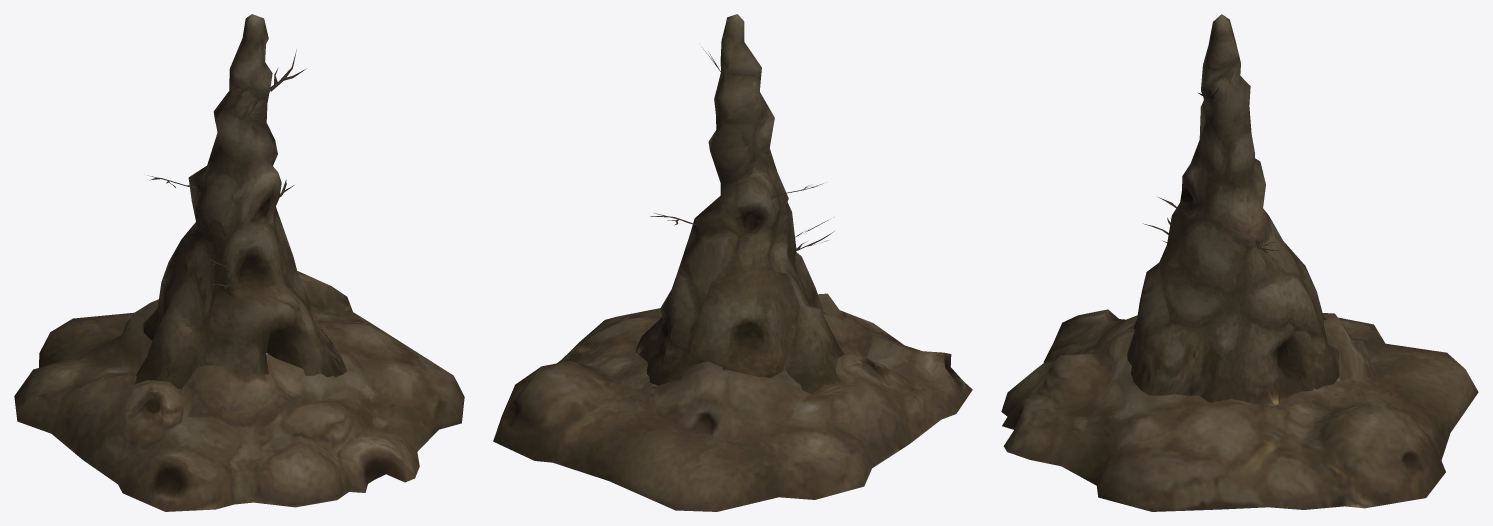
Rendered from nashgar_object_ant_tunnel_05.FBX.
3 renders of one model, left to right at view 1: azimuth 30°, elevation 25°; view 2: azimuth 150°, elevation 25°; view 3: azimuth 270°, elevation 25°, orthographic. The views are drawn at different scales.
Parts seen in each view (by area): view 1: nashgar_object_ant_tunnel_05; view 2: nashgar_object_ant_tunnel_05; view 3: nashgar_object_ant_tunnel_05.
Boxes of the visible parts, left/top/right/bottom form: nashgar_object_ant_tunnel_05: left=14, top=14, right=464, bottom=511; nashgar_object_ant_tunnel_05: left=493, top=14, right=972, bottom=511; nashgar_object_ant_tunnel_05: left=1001, top=14, right=1478, bottom=511.
Size of the model in its own units: 6.19 by 6.59 by 6.96.
